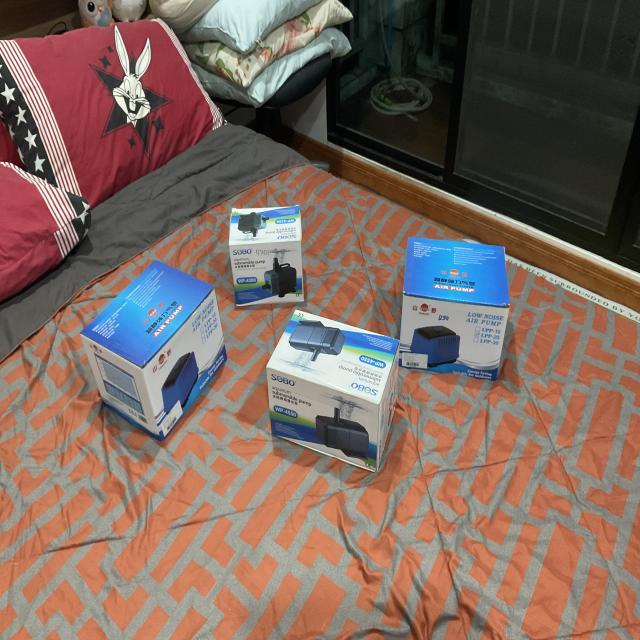SOBO_WP_4200: (264, 294, 417, 486), (225, 188, 322, 316)
YAMANO_LPP_20: (79, 248, 235, 457), (390, 232, 543, 396)
